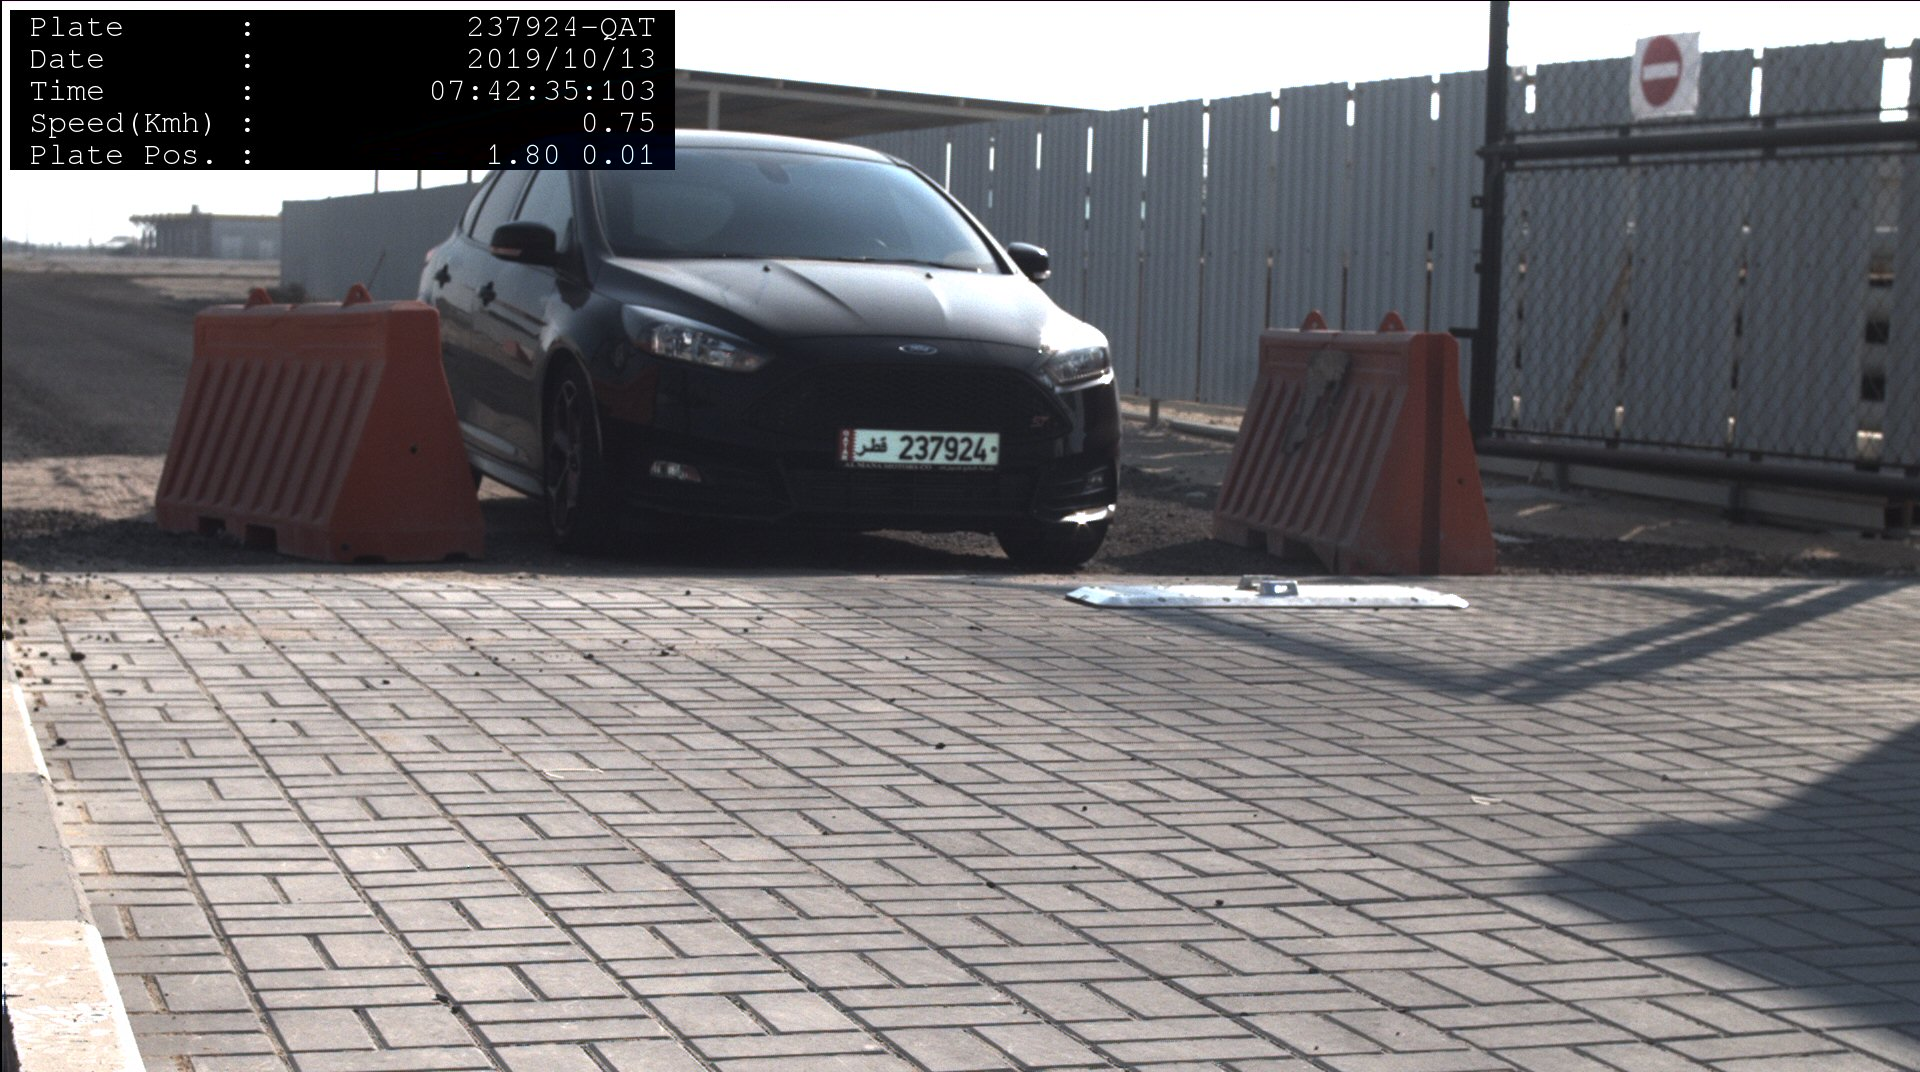License Plate: (838, 430, 1002, 467)
